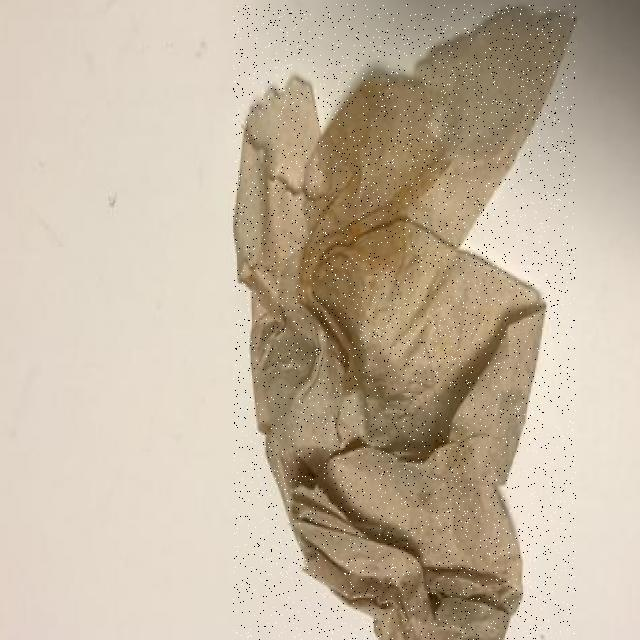paper: (234, 4, 576, 640)
